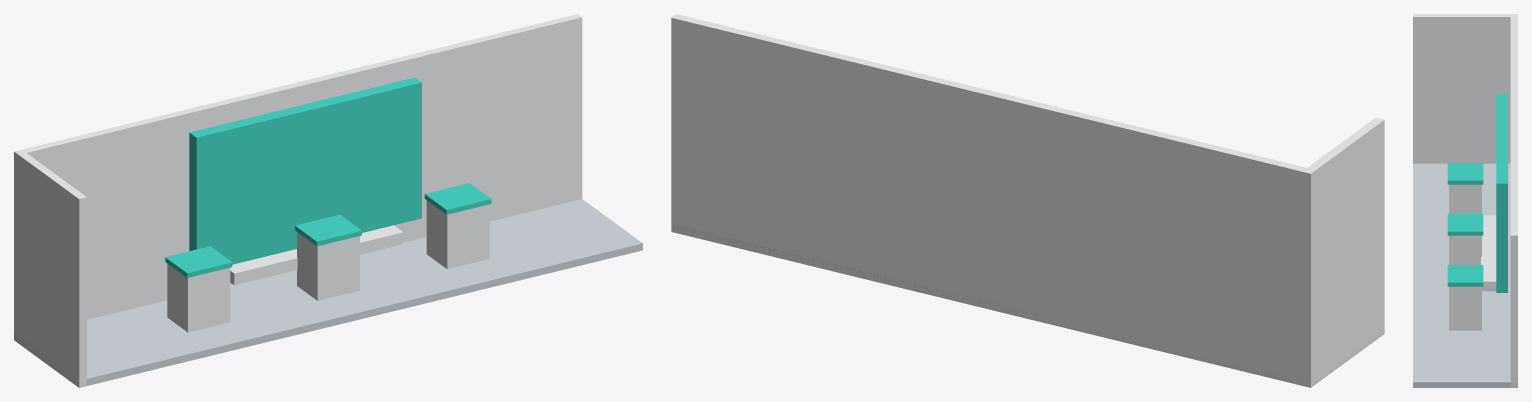
The picture shows the model from 3 angles, left to right: view 1: azimuth 30°, elevation 25°; view 2: azimuth 150°, elevation 25°; view 3: azimuth 270°, elevation 25°; orthographic projection. The views are drawn at different scales.
Parts seen in each view (by area): view 1: Exhibition Booth Concept; view 2: Exhibition Booth Concept; view 3: Exhibition Booth Concept.
Part boxes in pixels (x1,y1,x2,y2): Exhibition Booth Concept: [14, 14, 642, 387]; Exhibition Booth Concept: [671, 14, 1384, 387]; Exhibition Booth Concept: [1413, 14, 1517, 387].
Bounding box in the file's own units: 10 × 3.2 × 2.
